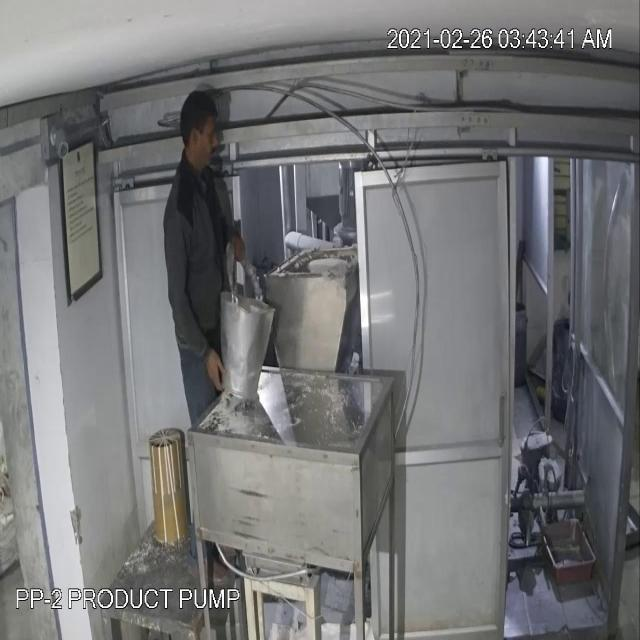no-helmet: (178, 82, 222, 181)
